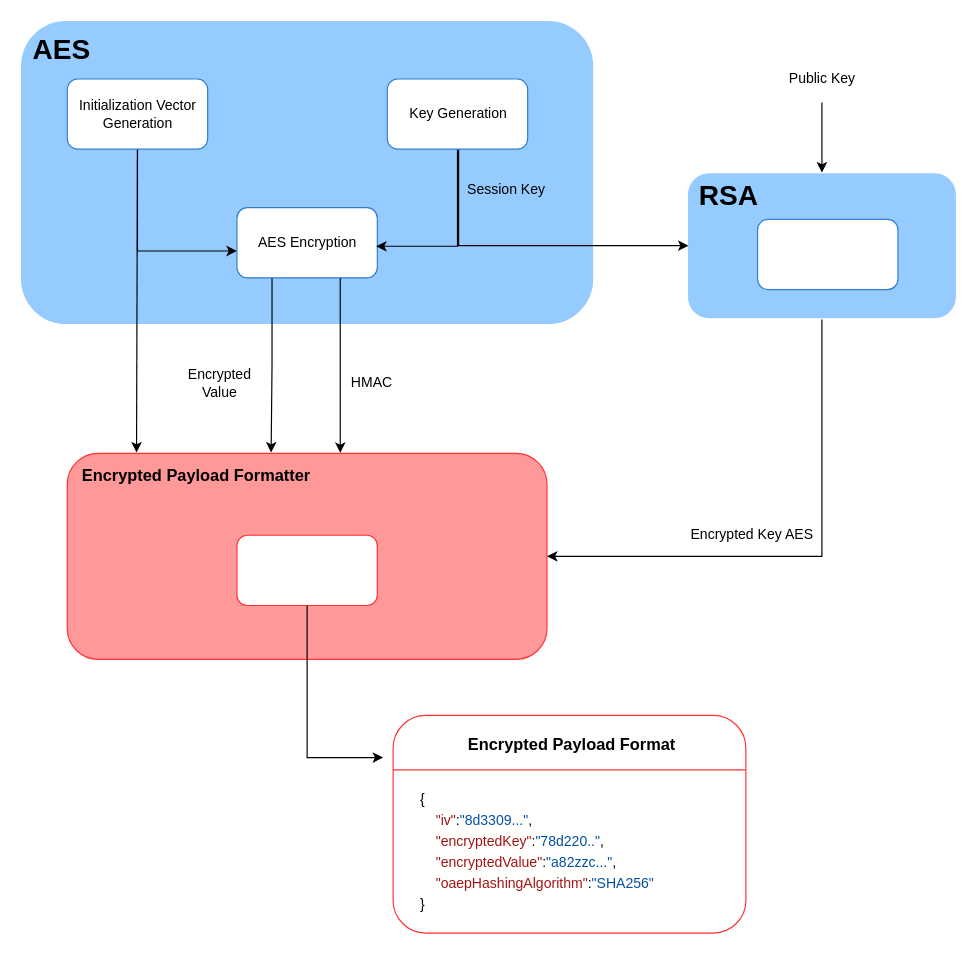
Some shapes in this 977 by 954 pixel diagram are drawn without their labels. Here are the shapes that lost their labels. From the top down, the centre of each, then its label:
[827,254]: Key Wrapping
[306,569]: JSON
